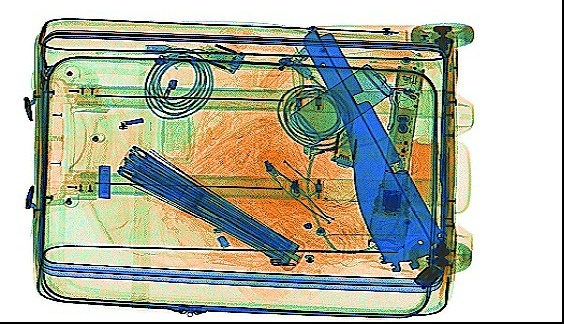lighter: (255, 43, 313, 92)
zippooil: (286, 61, 395, 145)
